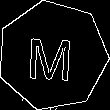M_N: (28, 29, 78, 82)
